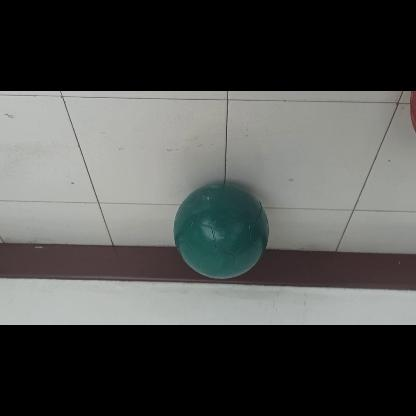green_ball: (176, 184, 270, 280)
